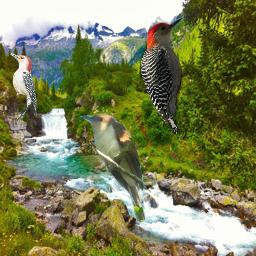Cuckoo: (78, 112, 148, 227)
Woodpecker: (139, 17, 191, 134), (8, 52, 37, 123)
